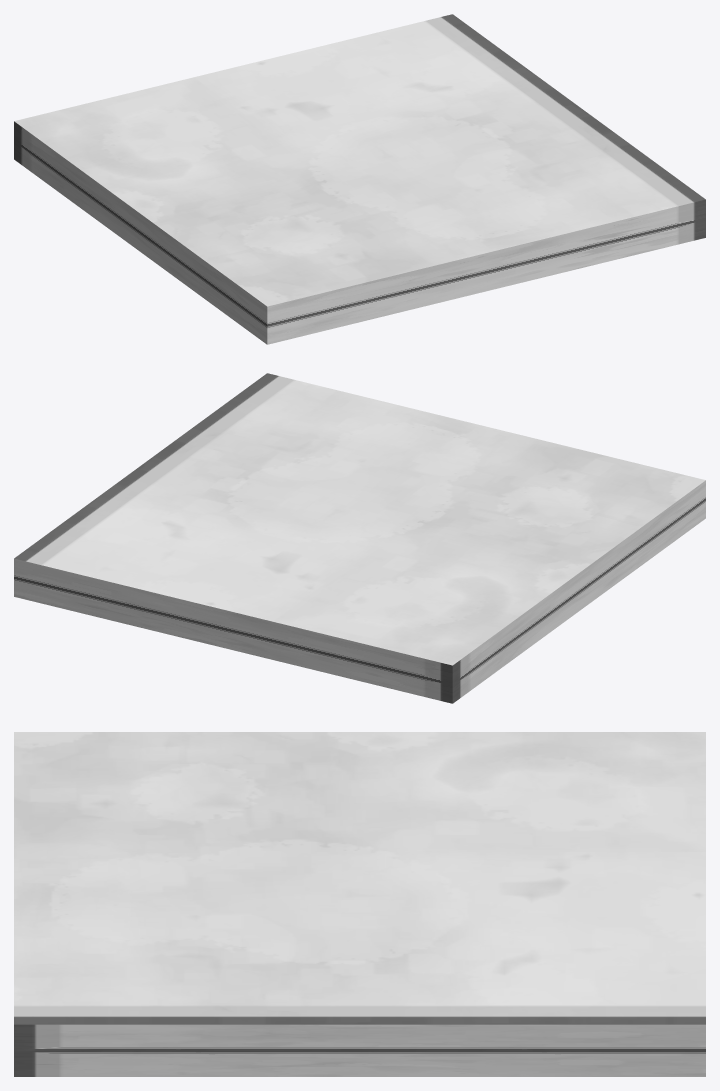
File: floor.fbx
3 renders of one model, top to bottom at view 1: azimuth 30°, elevation 25°; view 2: azimuth 150°, elevation 25°; view 3: azimuth 270°, elevation 25°, orthographic. The views are drawn at different scales.
Parts seen in each view (by area): view 1: floor_basic13; view 2: floor_basic13; view 3: floor_basic13.
Part boxes in pixels (<box>): floor_basic13: <box>14,14,705,344</box>; floor_basic13: <box>14,373,705,703</box>; floor_basic13: <box>14,732,705,1076</box>.
Size of what is drawn, in the model's own units: 300 by 300 by 25.
Materials: 1 (1 with a texture image).
